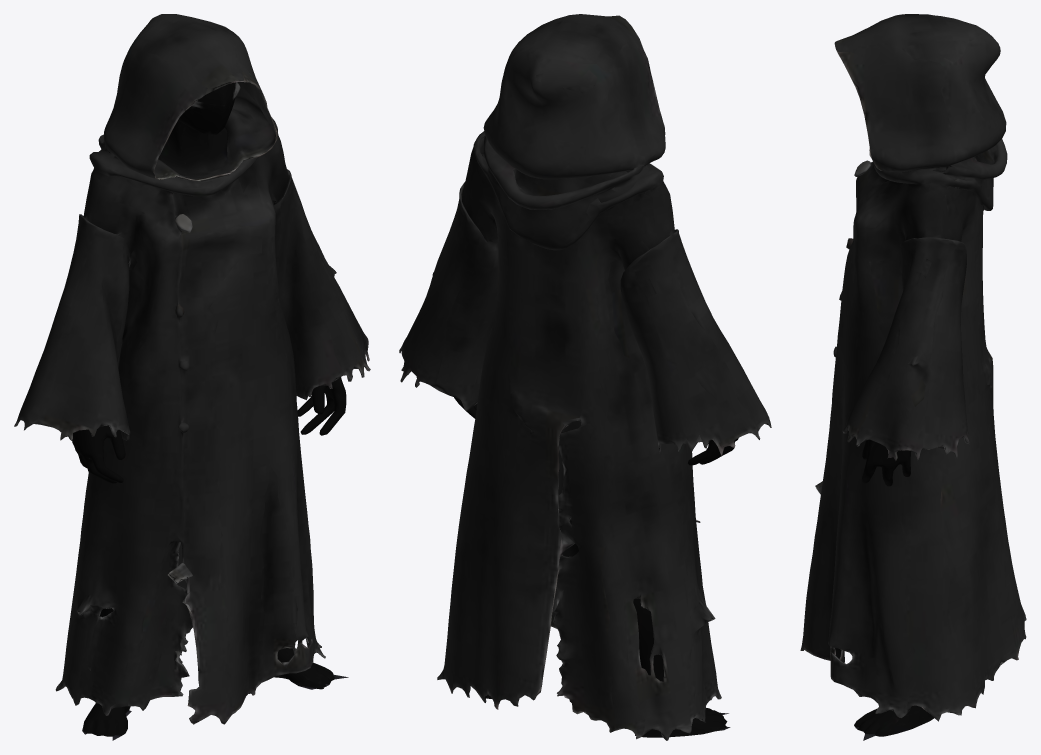
The model's file is kage.glb.
3 views of the same model, side by side, from view 1: azimuth 30°, elevation 25°; view 2: azimuth 150°, elevation 25°; view 3: azimuth 270°, elevation 25° (orthographic). The views are drawn at different scales.
Parts seen in each view (by area): view 1: doll; view 2: doll; view 3: doll.
Part boxes in pixels (box(x1,y1,x2,y2)): doll: box(14, 14, 370, 740); doll: box(399, 14, 771, 740); doll: box(800, 14, 1026, 740).
Bounding box in the file's own units: 0.5534 × 1 × 0.3114.
Materials: 1 (1 with a texture image).
